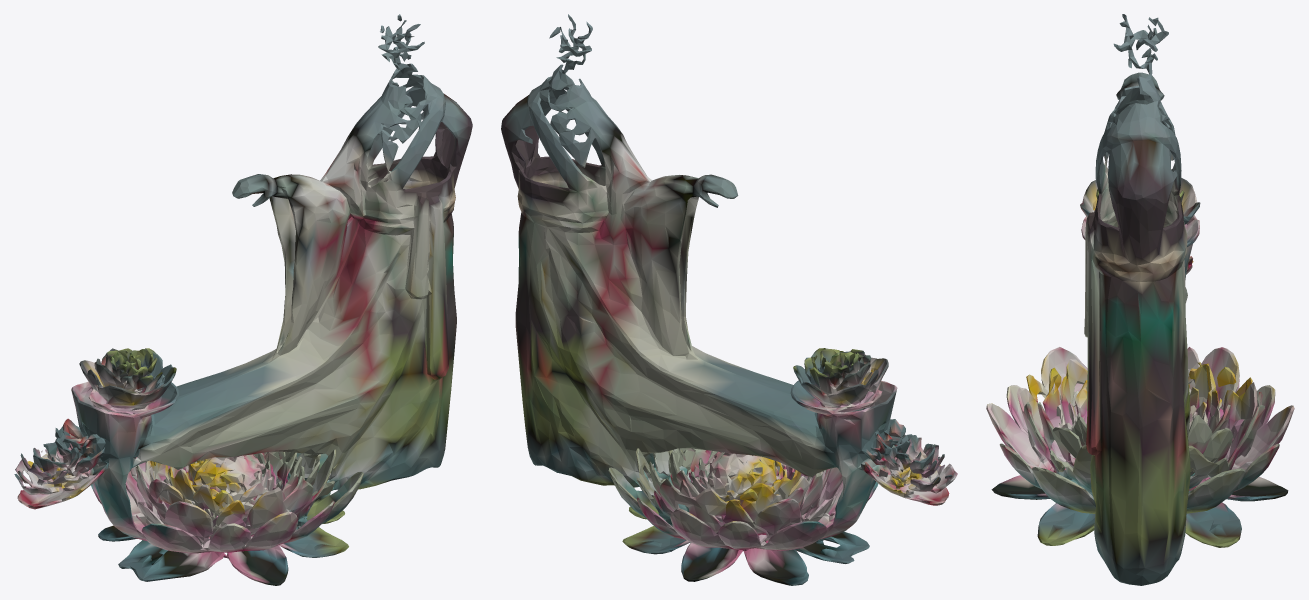
Rendered from windElemental.glb.
The picture shows the model from 3 angles, left to right: view 1: azimuth 30°, elevation 25°; view 2: azimuth 150°, elevation 25°; view 3: azimuth 270°, elevation 25°; orthographic projection. The views are drawn at different scales.
Parts seen in each view (by area): view 1: world; view 2: world; view 3: world.
Boxes of the visible parts, left/top/right/bottom form: world: left=14, top=14, right=472, bottom=585; world: left=501, top=14, right=957, bottom=585; world: left=986, top=14, right=1294, bottom=585.
Size of the model in its own units: 0.9895 by 1 by 0.4757.
